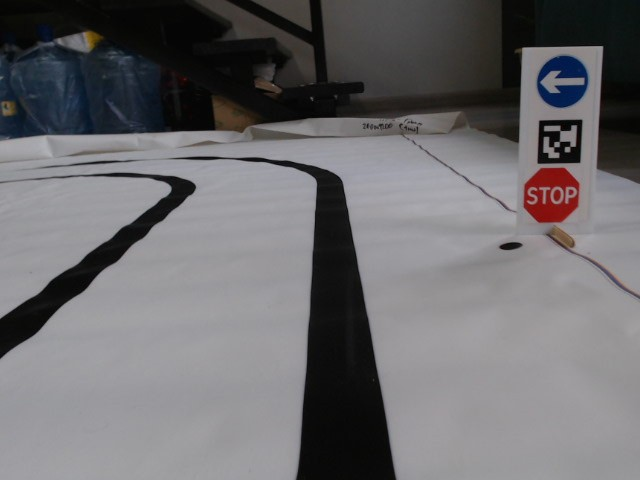Stop: (523, 166, 581, 225)
